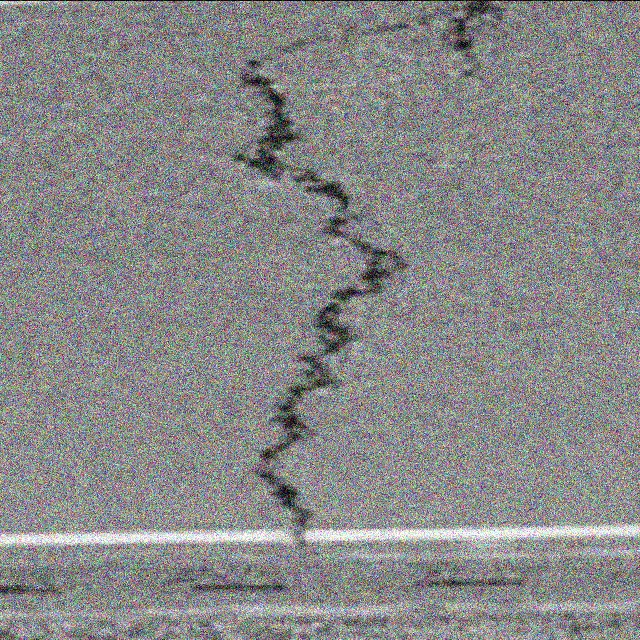SurfaceCrack: (203, 0, 448, 620)
